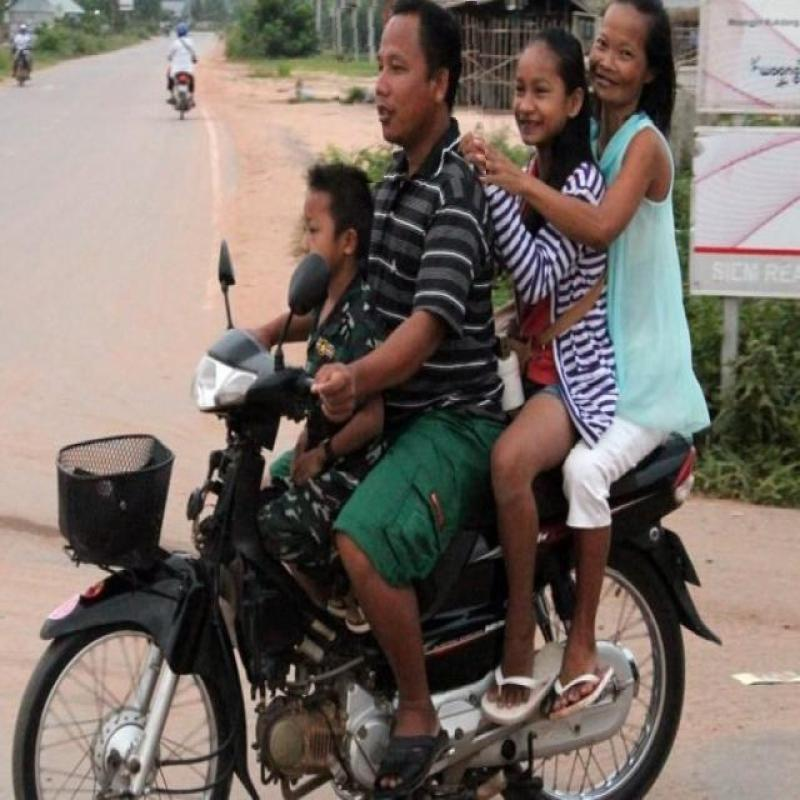nohelmet: (337, 3, 484, 183)
